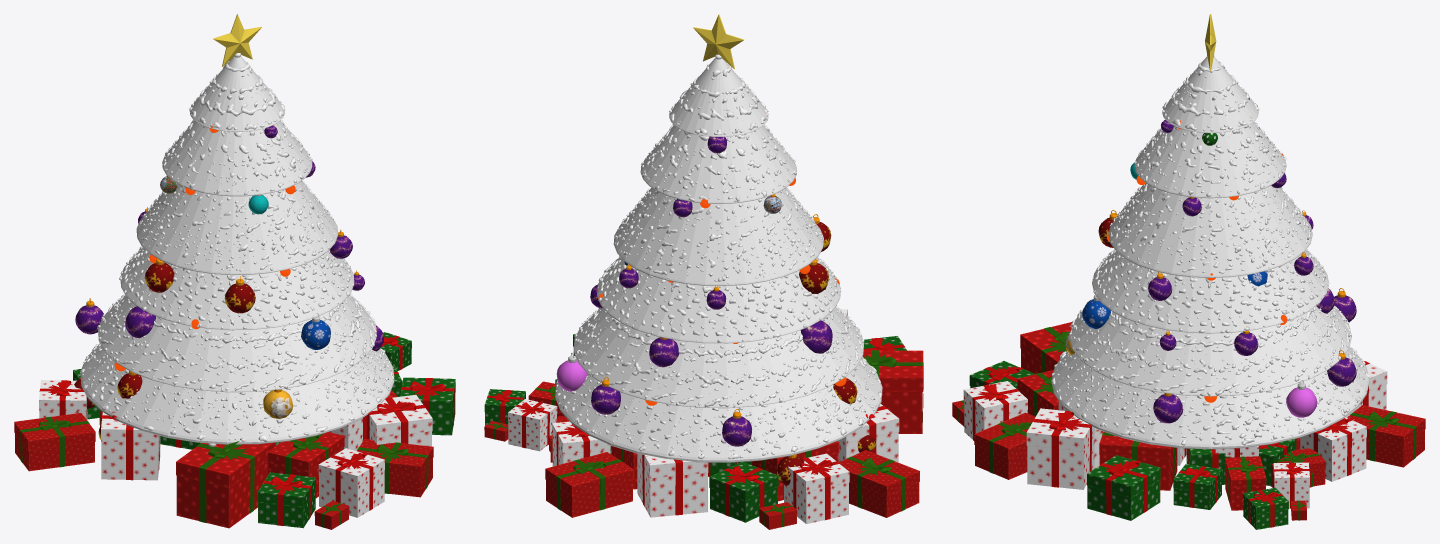
File: Christmass-tree.glb
The picture shows the model from 3 angles, left to right: view 1: azimuth 30°, elevation 25°; view 2: azimuth 150°, elevation 25°; view 3: azimuth 270°, elevation 25°; orthographic projection. The views are drawn at different scales.
Visible parts, largest first — view 1: Cone.005, Cone.004, Cone.002, Cone.003, Cone.001, Christmas_Gift_03_Christmas_Gifts_0.005, Christmas_Gift_Extra_Christmas_Gifts_0.001, SnowBall.005, Christmas_Gift_04_Christmas_Gifts_0.004, Cone, Christmas_Gift_Extra_Christmas_Gifts_0.004, Christmas_Gift_01_Christmas_Gifts_0 (+18 smaller); view 2: Cone.004, Cone.005, Cone.002, Cone.003, Cone.001, SnowBall.005, Christmas_Gift_04_Christmas_Gifts_0.003, Cone, Christmas_Gift_Extra_Christmas_Gifts_0.003, Christmas_Gift_04_Christmas_Gifts_0.004, Christmas_Gift_01_Christmas_Gifts_0.004, Christmas_Gift_03_Christmas_Gifts_0.005 (+20 smaller); view 3: Cone.004, Cone.005, Cone.002, Cone.003, Christmas_Gift_Extra_Christmas_Gifts_0.001, Cone.001, SnowBall.005, Cone, SnowBall.006, SnowBall.004, Christmas_Gift_04_Christmas_Gifts_0.003, SnowBall.003 (+22 smaller).
Boxes of the visible parts, bbox=[...] form: Cone.005: bbox=[80, 344, 394, 444]; Cone.004: bbox=[98, 295, 376, 392]; Cone.002: bbox=[136, 181, 338, 275]; Cone.003: bbox=[120, 248, 354, 330]; Cone.001: bbox=[162, 121, 312, 196]; Christmas_Gift_03_Christmas_Gifts_0.005: bbox=[176, 441, 275, 528]; Christmas_Gift_Extra_Christmas_Gifts_0.001: bbox=[367, 377, 455, 446]; SnowBall.005: bbox=[97, 294, 376, 391]; Christmas_Gift_04_Christmas_Gifts_0.004: bbox=[14, 413, 95, 471]; Cone: bbox=[189, 56, 284, 131]; Christmas_Gift_Extra_Christmas_Gifts_0.004: bbox=[101, 411, 200, 480]; Christmas_Gift_01_Christmas_Gifts_0: bbox=[318, 448, 384, 517]; Cone.004: bbox=[573, 307, 864, 408]; Cone.005: bbox=[555, 357, 882, 462]; Cone.002: bbox=[613, 188, 823, 286]; Cone.003: bbox=[597, 257, 840, 343]; Cone.001: bbox=[640, 125, 796, 203]; SnowBall.005: bbox=[574, 305, 864, 407]; Christmas_Gift_04_Christmas_Gifts_0.003: bbox=[545, 452, 633, 517]; Cone: bbox=[669, 58, 768, 136]; Christmas_Gift_Extra_Christmas_Gifts_0.003: bbox=[548, 435, 737, 517]; Christmas_Gift_04_Christmas_Gifts_0.004: bbox=[838, 450, 919, 517]; Christmas_Gift_01_Christmas_Gifts_0.004: bbox=[784, 453, 849, 523]; Christmas_Gift_03_Christmas_Gifts_0.005: bbox=[862, 350, 923, 433]; Cone.004: bbox=[1069, 306, 1351, 396]; Cone.005: bbox=[1051, 347, 1369, 449]; Cone.002: bbox=[1108, 183, 1312, 277]; Cone.003: bbox=[1092, 250, 1329, 333]; Christmas_Gift_Extra_Christmas_Gifts_0.001: bbox=[1026, 408, 1160, 520]; Cone.001: bbox=[1134, 122, 1286, 198]; SnowBall.005: bbox=[1069, 305, 1351, 395]; Cone: bbox=[1162, 56, 1258, 133]; SnowBall.006: bbox=[1051, 346, 1369, 445]; SnowBall.004: bbox=[1092, 249, 1328, 333]; Christmas_Gift_04_Christmas_Gifts_0.003: bbox=[1347, 405, 1425, 467]; SnowBall.003: bbox=[1110, 184, 1312, 274].
Size of what is drawn, in the model's own units: 5.71 by 5.77 by 5.82.
27 materials, 18 textured.
